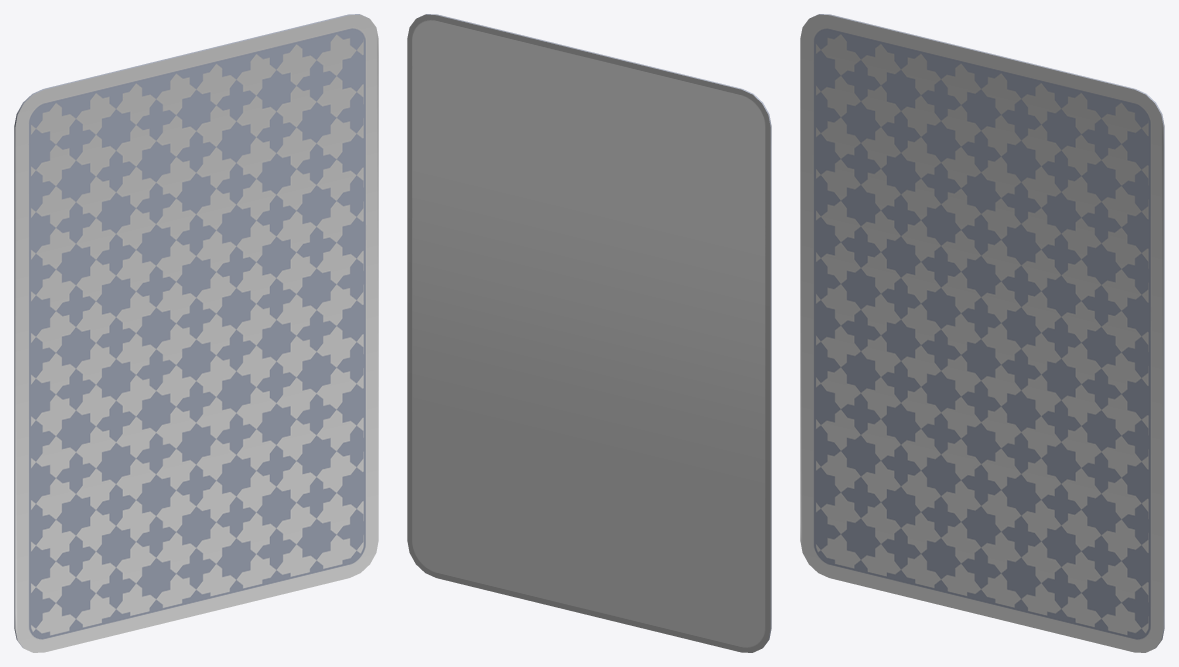
File: card.glb
3 views of the same model, side by side, from view 1: azimuth 30°, elevation 25°; view 2: azimuth 150°, elevation 25°; view 3: azimuth 330°, elevation 25° (orthographic).
Parts seen in each view (by area): view 1: Cube.005; view 2: Cube.005; view 3: Cube.005.
Part boxes in pixels (<box>): Cube.005: <box>14,14,378,652</box>; Cube.005: <box>407,14,771,652</box>; Cube.005: <box>800,14,1164,652</box>.
Bounding box in the file's own units: 336 × 497 × 1.73.
Materials: 1 (1 with a texture image).
